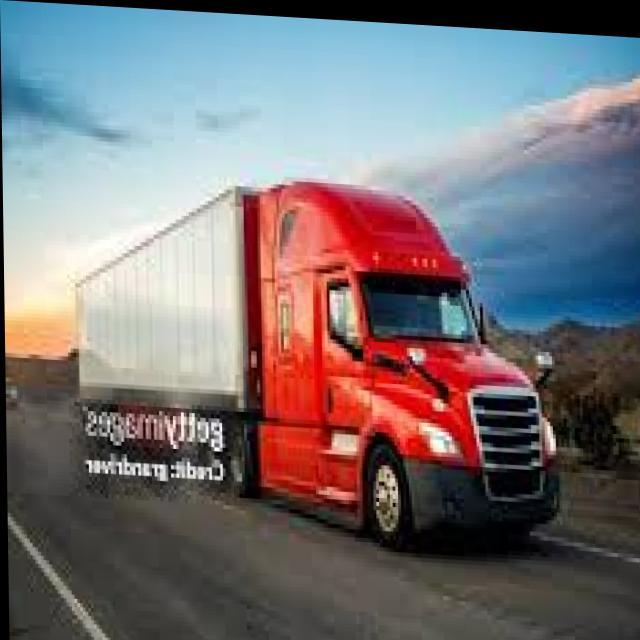covered: (65, 159, 564, 551)
